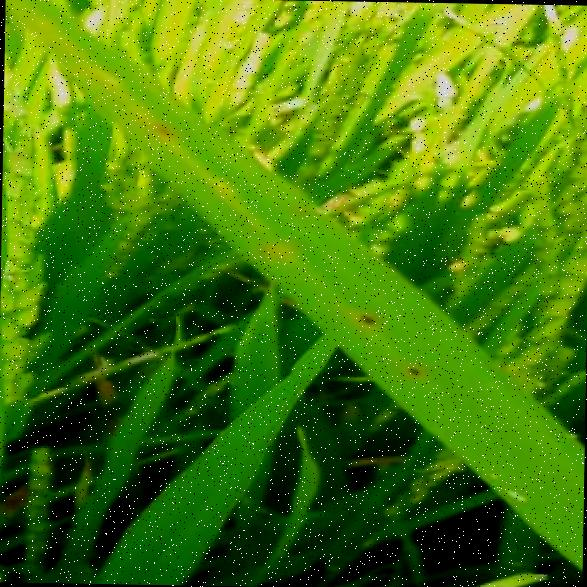Brown_Spot: (144, 115, 174, 138), (350, 304, 378, 328), (398, 358, 426, 382), (248, 240, 274, 262), (287, 202, 313, 224)
